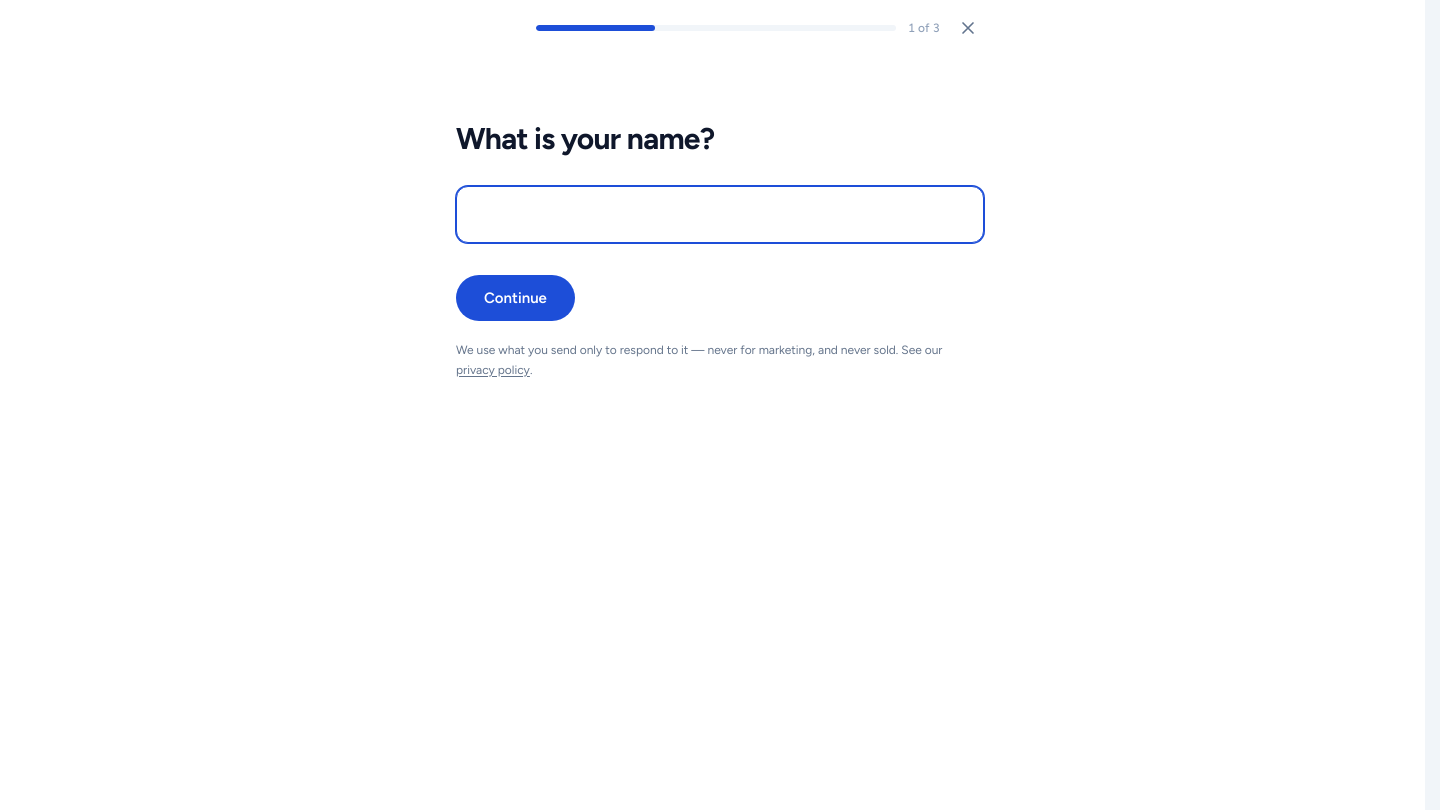
it: Wizard — step flow › advances to the next step once answered
Type "Rivka" into the field at [720, 214], box [456,186,984,242]
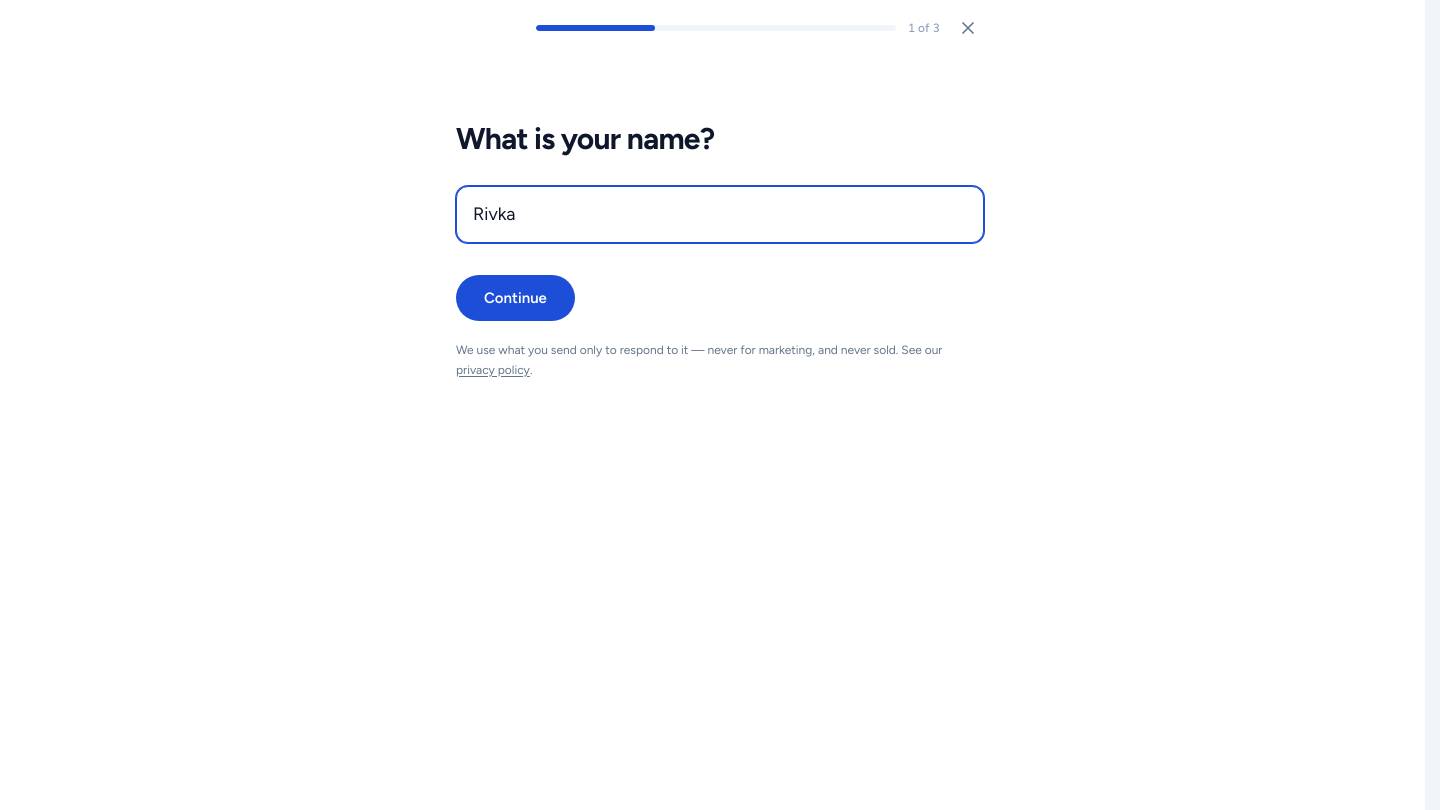
Click the button "Continue" at [515, 298], box [456,274,575,321]
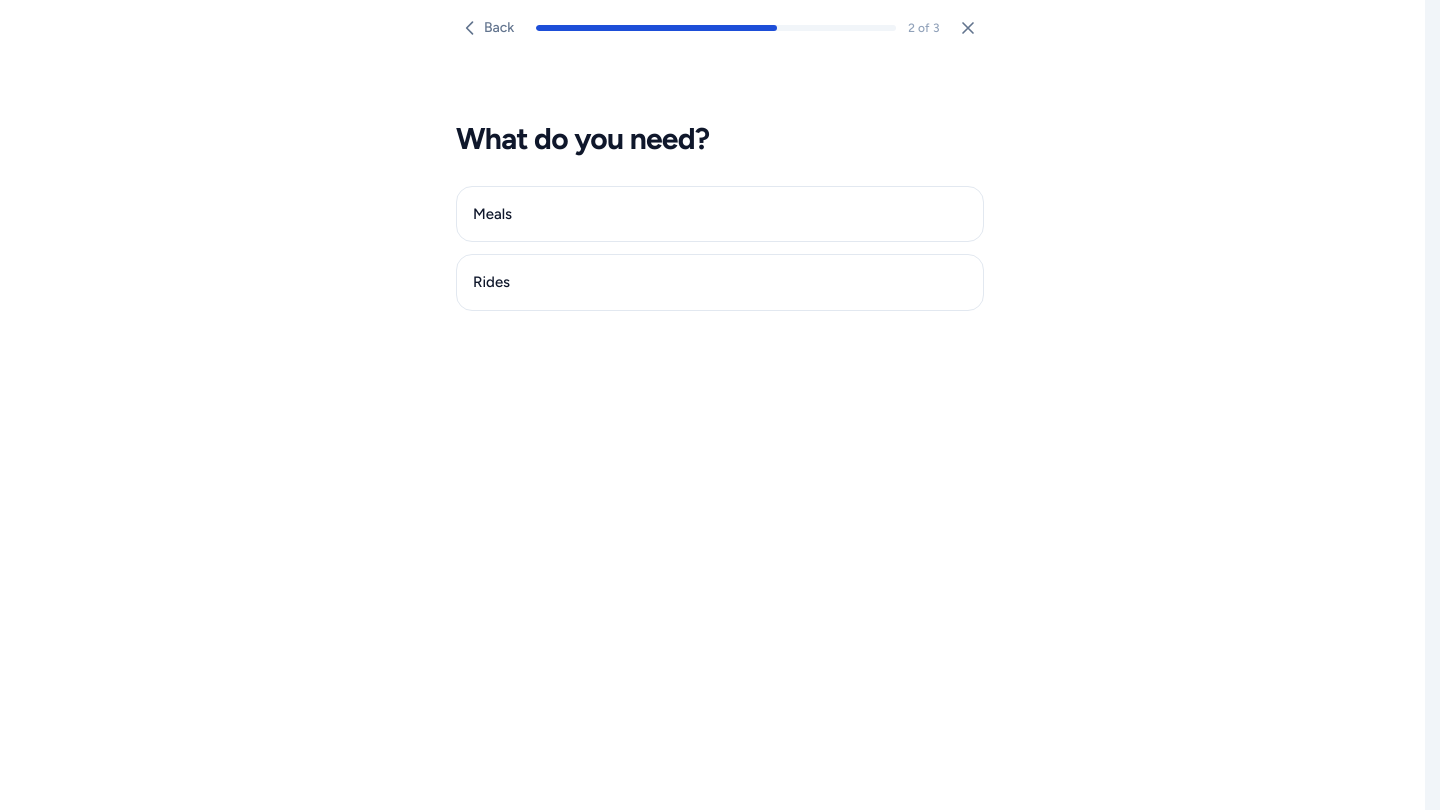
Check: the heading "What do you need?" is shown, box [456,120,710,157]
Check: the text "2 of 3" is shown, box [908,20,940,36]
